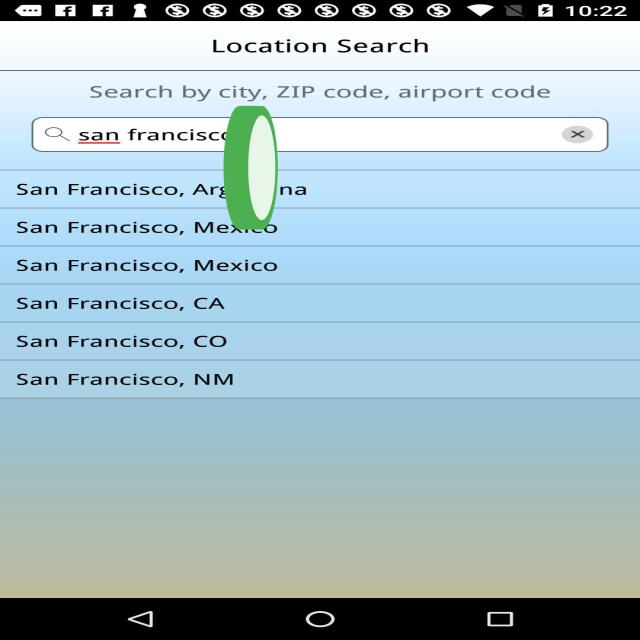social proof: (221, 58, 280, 287)
